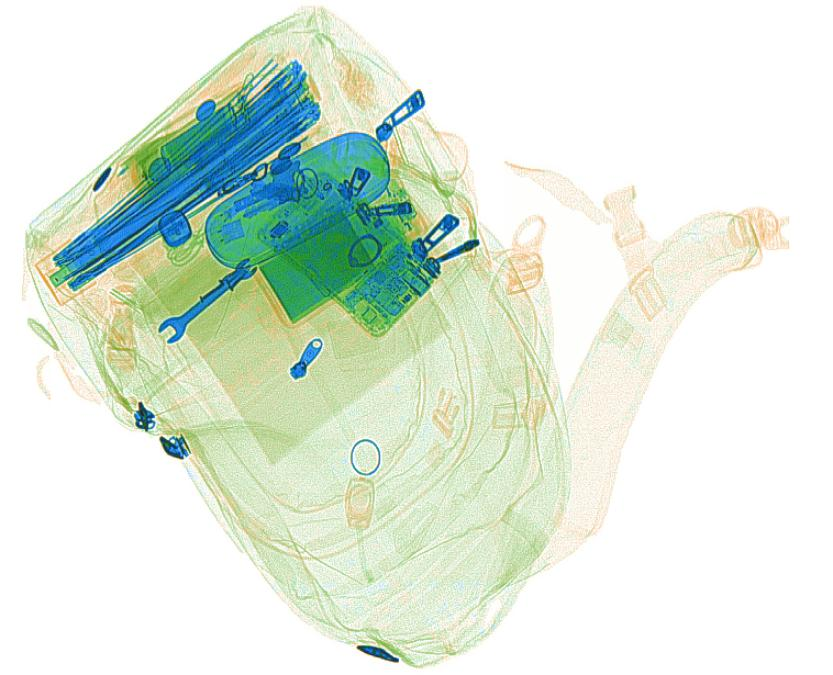battery: (157, 101, 242, 176)
